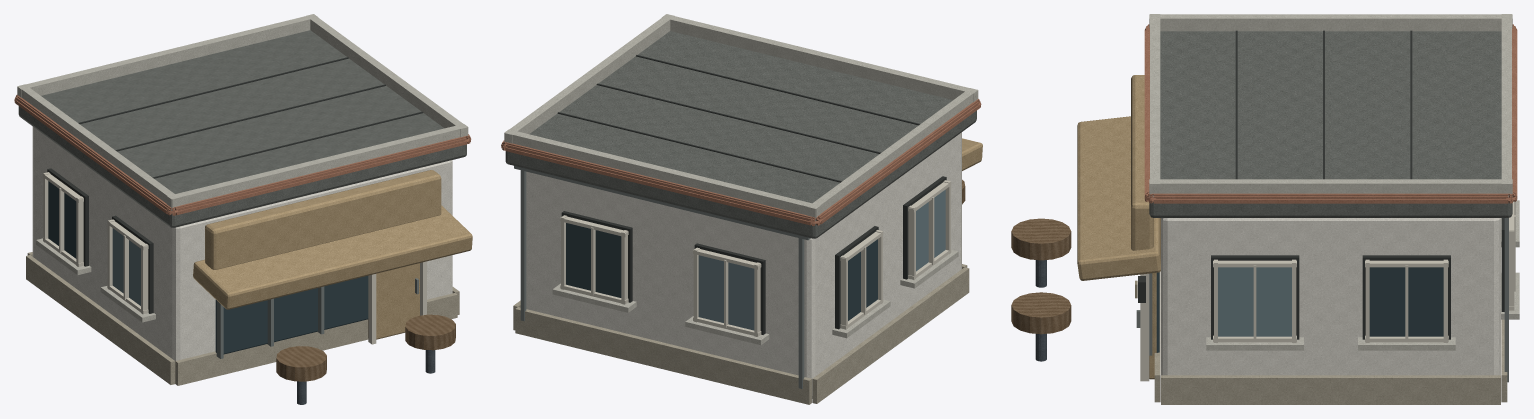
The model's file is COM_LOW_1x1_003.glb.
3 renders of one model, left to right at view 1: azimuth 30°, elevation 25°; view 2: azimuth 150°, elevation 25°; view 3: azimuth 270°, elevation 25°, orthographic. The views are drawn at different scales.
Parts seen in each view (by area): view 1: COM_LOW_1x1_003_Visual; view 2: COM_LOW_1x1_003_Visual; view 3: COM_LOW_1x1_003_Visual.
Boxes of the visible parts, x1,y1,x2,y2 form: COM_LOW_1x1_003_Visual: [14, 14, 472, 404]; COM_LOW_1x1_003_Visual: [501, 14, 982, 404]; COM_LOW_1x1_003_Visual: [1011, 14, 1519, 404].
Size of what is drawn, in the model's own units: 1.81 by 1.07 by 2.21.
14 materials, 8 textured.
